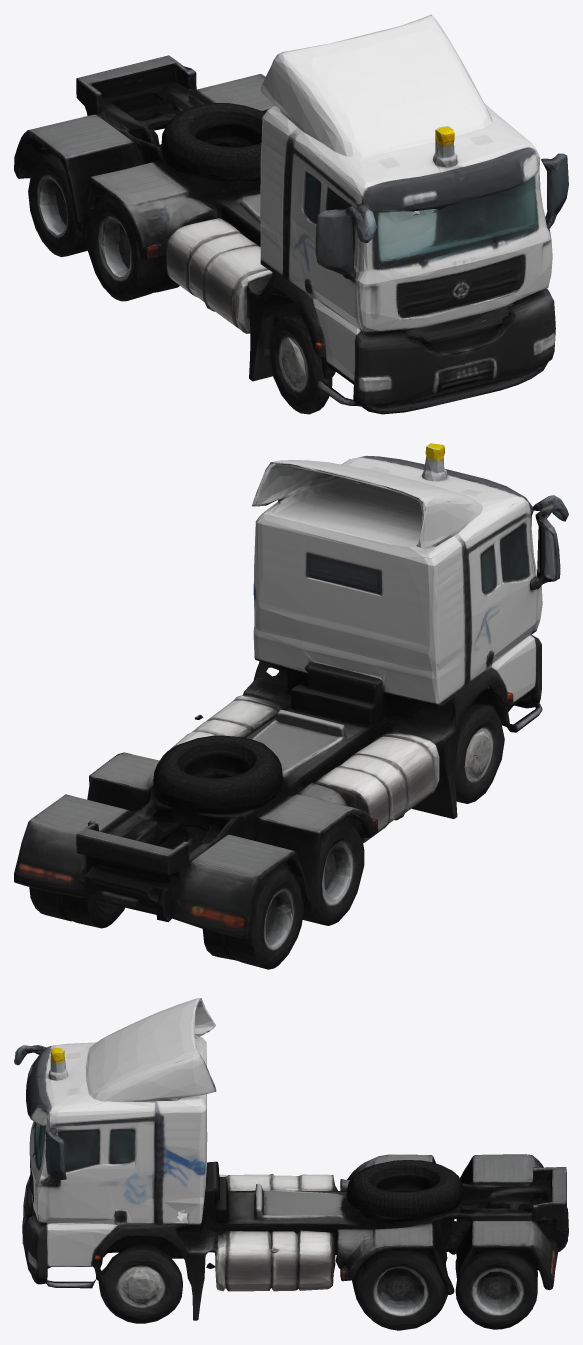
The picture shows the model from 3 angles, top to bottom: view 1: azimuth 30°, elevation 25°; view 2: azimuth 150°, elevation 25°; view 3: azimuth 270°, elevation 25°; orthographic projection. The views are drawn at different scales.
Parts seen in each view (by area): view 1: world; view 2: world; view 3: world.
Boxes of the visible parts, <box> form: world: <box>14,14,568,414</box>; world: <box>14,443,568,969</box>; world: <box>14,998,568,1330</box>.
Bounding box in the file's own units: 0.4178 × 0.5199 × 0.9956.
Materials: 1 (1 with a texture image).
